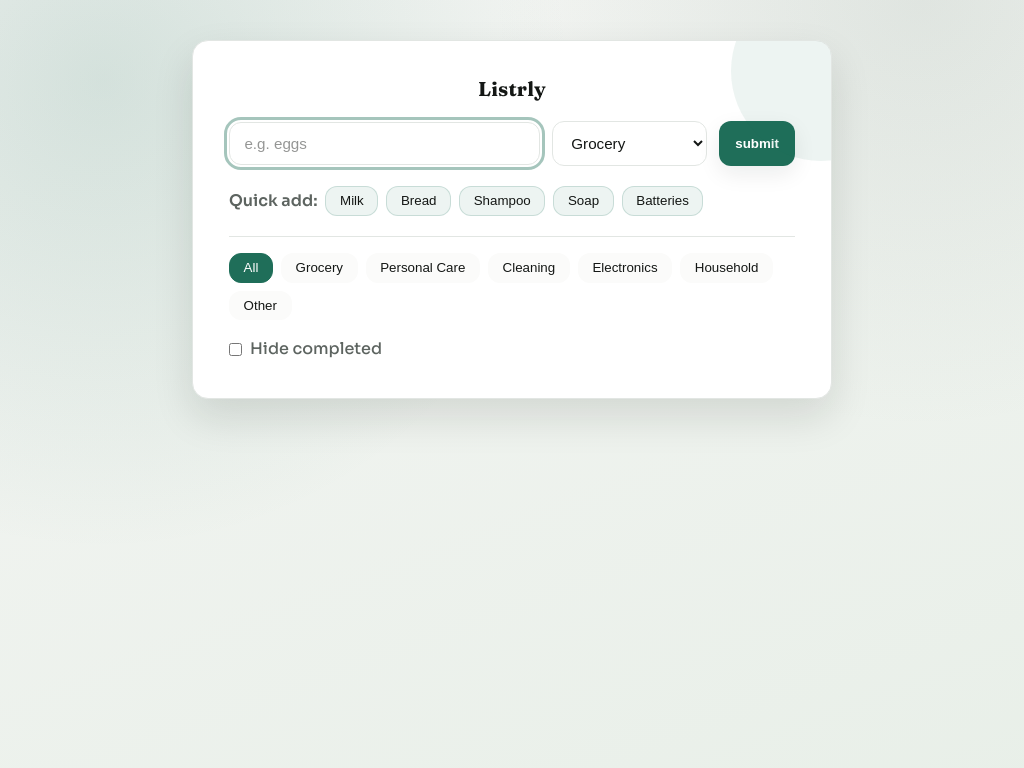
it: FastList interactions › adds accessible labels for edit and delete actions
This screenshot has width=1024, height=768.
Type "Milk" into the field with placeholder "e.g. eggs" at {"x": 384, "y": 144}, box [229,122,540,165]
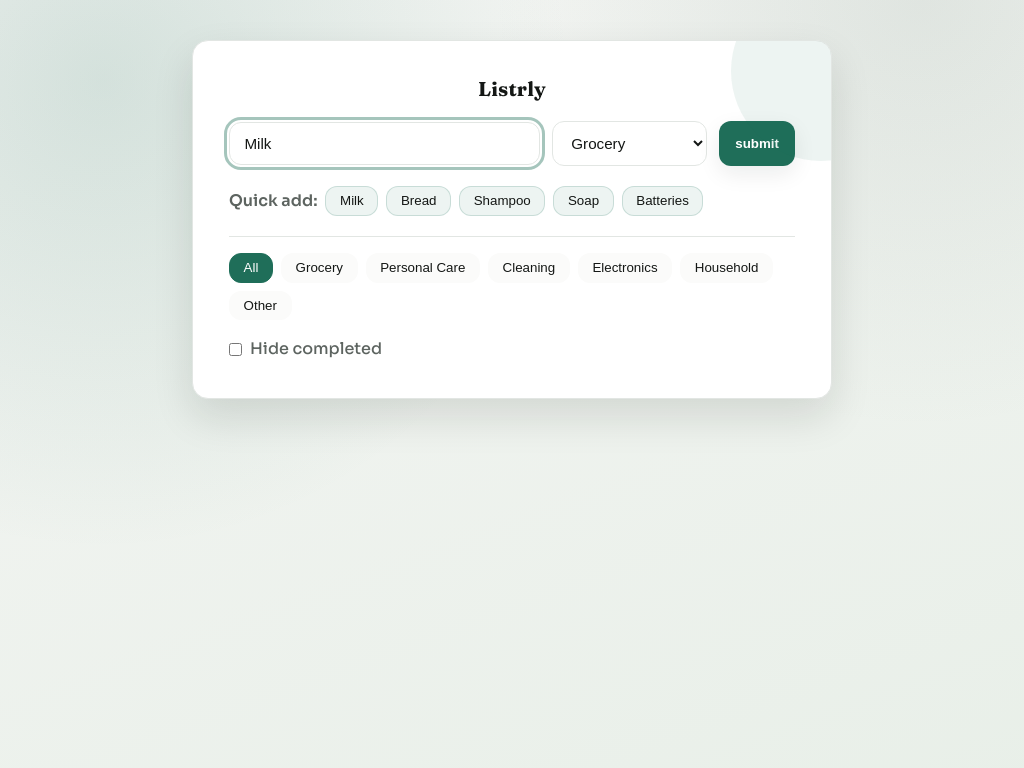
Select "Grocery" in the dropdown named "Item category" at {"x": 630, "y": 144}, box [552,121,707,166]
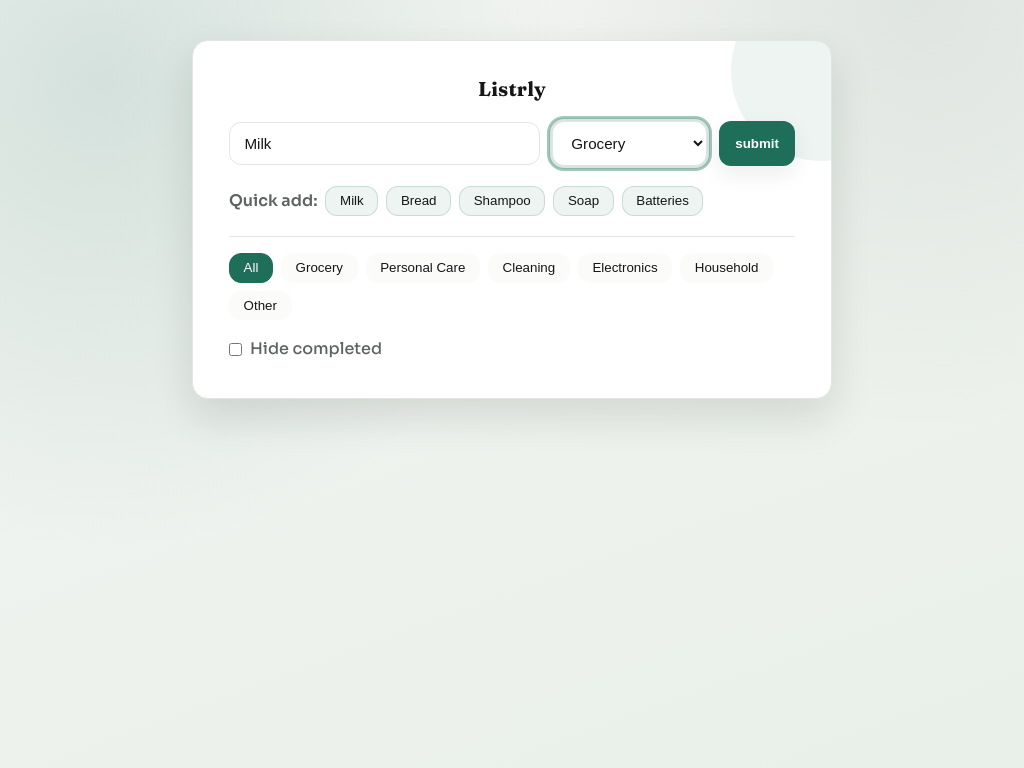
Click the button "submit" at {"x": 757, "y": 144}, box [719,121,795,166]
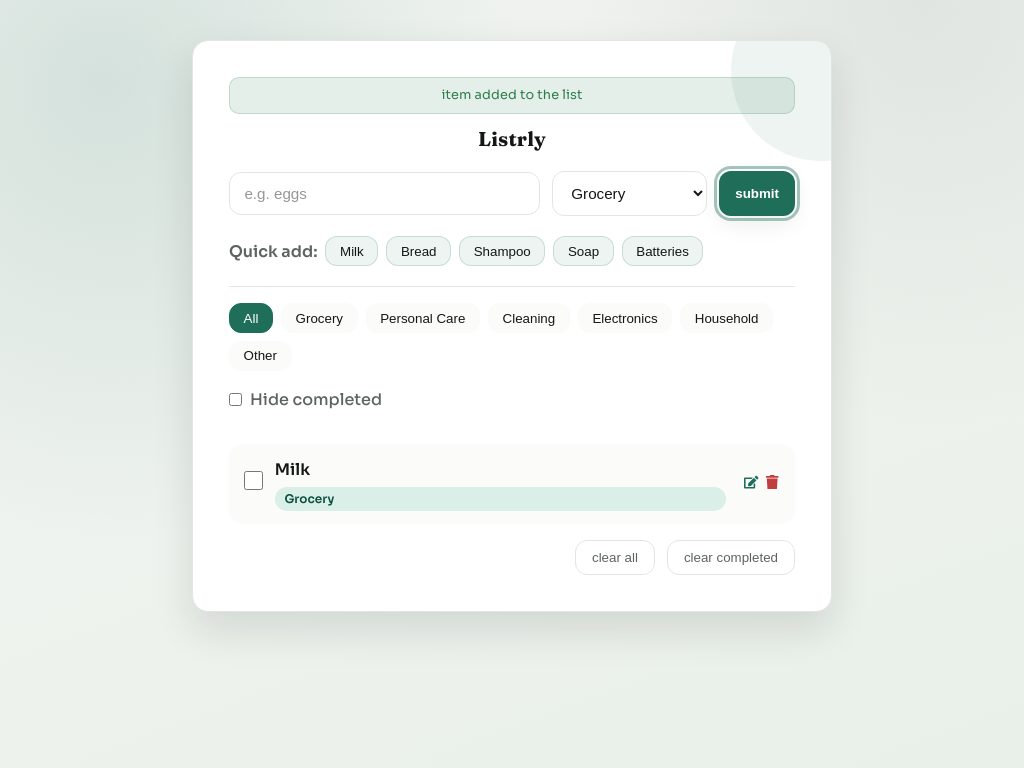
expect the button named "edit milk" is shown: met, box [744,475,759,492]
expect the button named "delete milk" is shown: met, box [765,475,780,492]
